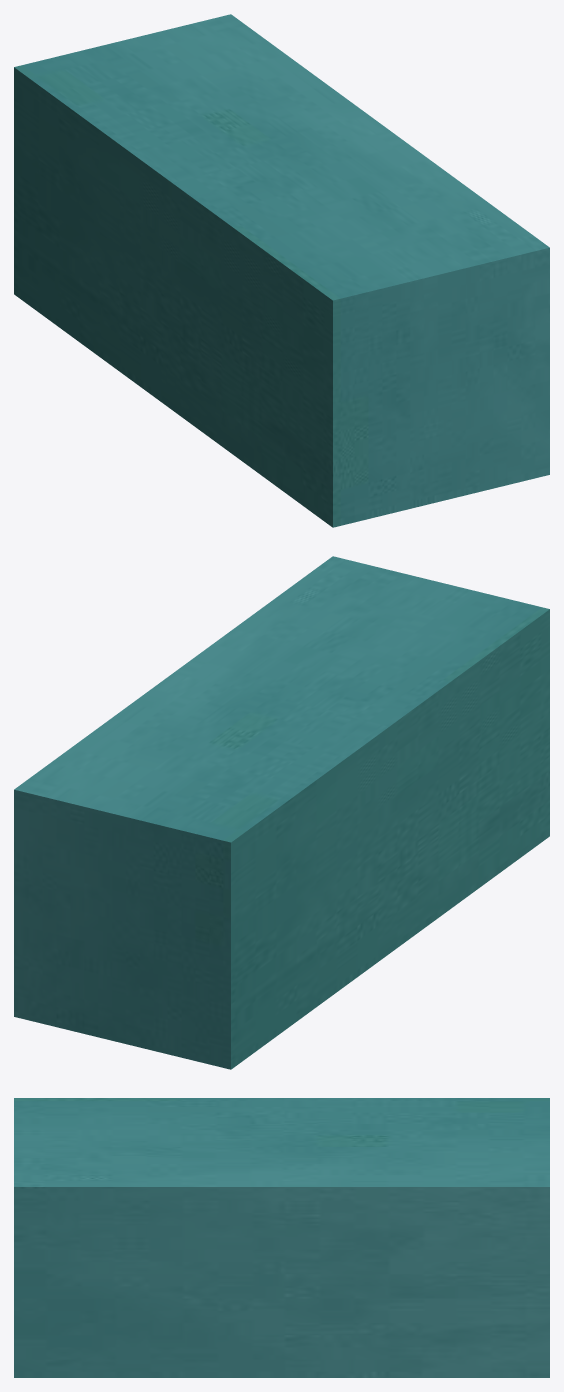
The model's file is BrickCut.fbx.
The picture shows the model from 3 angles, top to bottom: view 1: azimuth 30°, elevation 25°; view 2: azimuth 150°, elevation 25°; view 3: azimuth 270°, elevation 25°; orthographic projection. The views are drawn at different scales.
Visible parts, largest first — view 1: LeftPiece, MidRightPiece, RightPiece, MidLeftPiece; view 2: MidLeftPiece, MidRightPiece, RightPiece, LeftPiece; view 3: MidRightPiece, RightPiece, MidLeftPiece, LeftPiece.
Boxes of the visible parts, x1=… form: LeftPiece: x1=216, y1=234, x2=549, y2=527; MidRightPiece: x1=167, y1=133, x2=531, y2=441; RightPiece: x1=60, y1=42, x2=392, y2=406; MidLeftPiece: x1=14, y1=14, x2=269, y2=367; MidLeftPiece: x1=14, y1=762, x2=332, y2=1069; MidRightPiece: x1=178, y1=569, x2=506, y2=956; RightPiece: x1=52, y1=670, x2=388, y2=995; LeftPiece: x1=315, y1=556, x2=549, y2=921; MidRightPiece: x1=43, y1=1098, x2=286, y2=1377; RightPiece: x1=275, y1=1098, x2=486, y2=1377; MidLeftPiece: x1=393, y1=1098, x2=549, y2=1377; LeftPiece: x1=14, y1=1098, x2=166, y2=1377.
Size of the model in its own units: 0.0188 by 0.0188 by 0.0478.
Materials: 1 (1 with a texture image).
